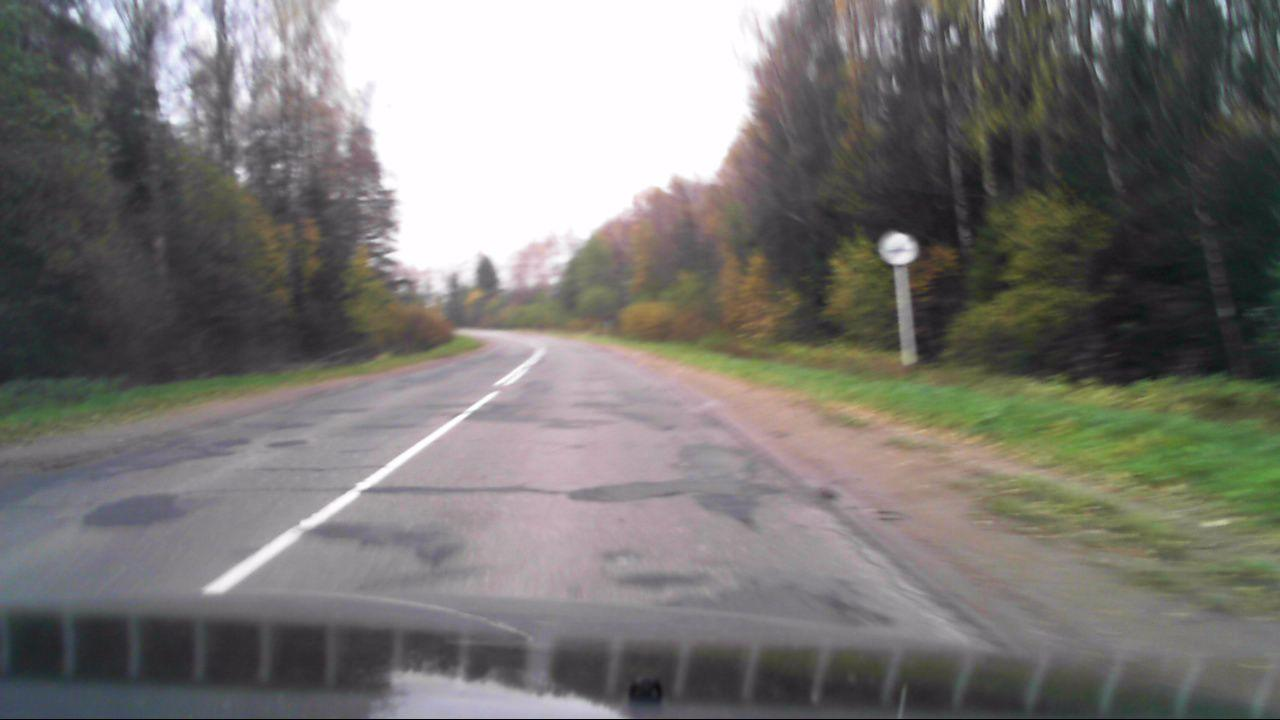3_21: (876, 230, 919, 266)
